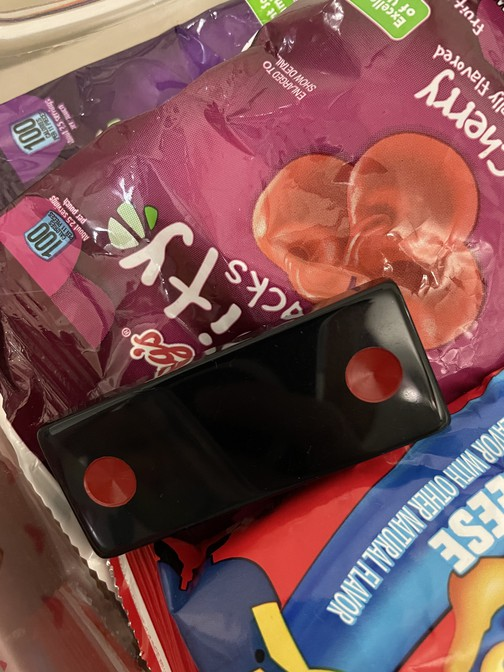earth: (35, 278, 450, 560)
